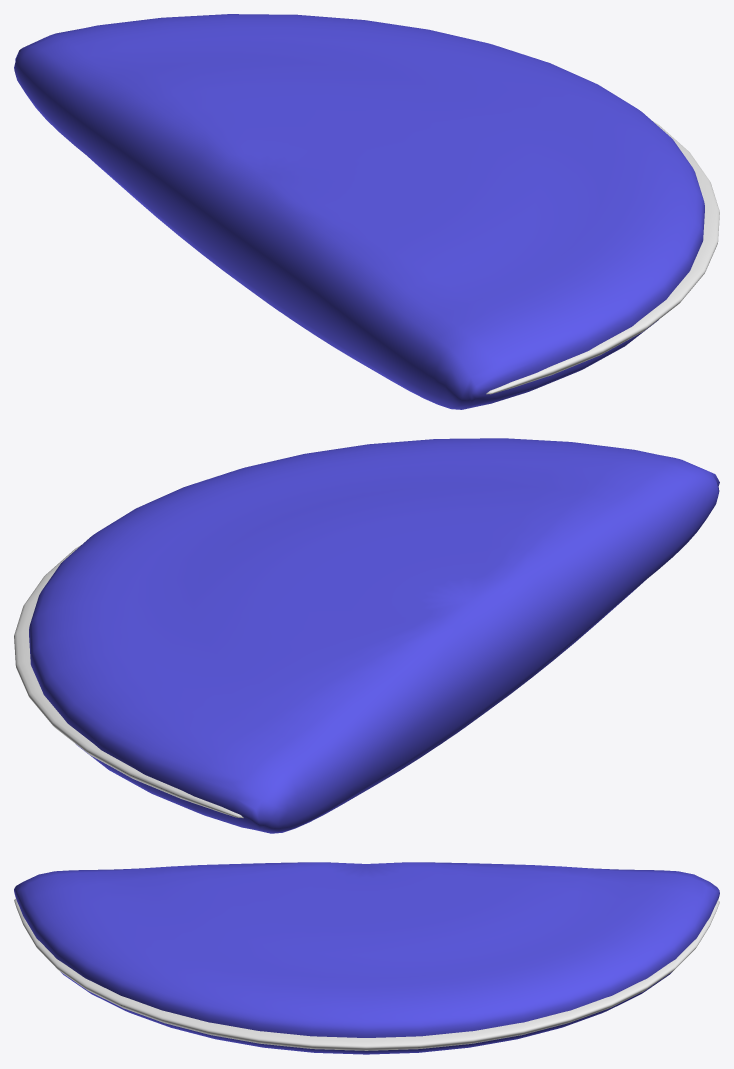
The model's file is Quesadilla.fbx.
3 renders of one model, top to bottom at view 1: azimuth 30°, elevation 25°; view 2: azimuth 150°, elevation 25°; view 3: azimuth 270°, elevation 25°, orthographic. The views are drawn at different scales.
Parts seen in each view (by area): view 1: Sphere.001, Sphere.002; view 2: Sphere.001, Sphere.002; view 3: Sphere.001, Sphere.002.
Part boxes in pixels (<box>): Sphere.001: <box>14,14,704,409</box>; Sphere.002: <box>486,121,719,394</box>; Sphere.001: <box>29,438,719,833</box>; Sphere.002: <box>14,545,243,818</box>; Sphere.001: <box>14,862,719,1054</box>; Sphere.002: <box>14,898,719,1050</box>.
Size of the model in its own units: 107 by 28.08 by 198.
